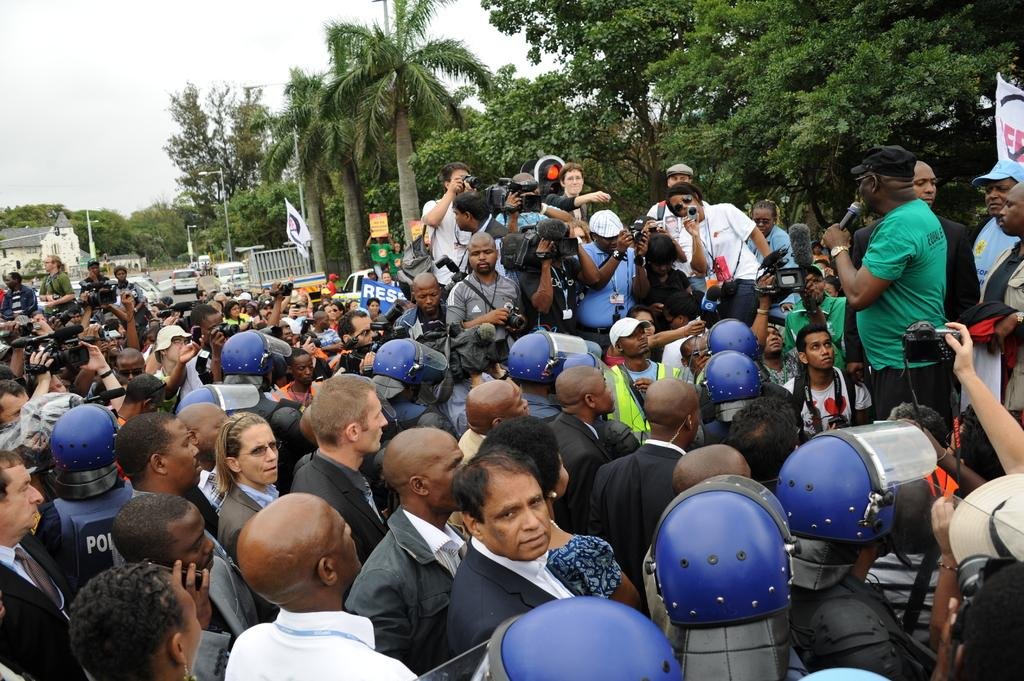helmet: (650, 474, 792, 639), (775, 421, 938, 553), (51, 403, 129, 477), (508, 331, 588, 389), (372, 338, 448, 392), (696, 350, 760, 408), (220, 330, 292, 380), (698, 318, 759, 365)
nohelmet: (67, 561, 203, 681), (234, 491, 363, 612), (450, 446, 554, 565), (110, 491, 217, 587), (381, 425, 477, 515), (113, 410, 205, 497), (309, 373, 389, 458), (216, 411, 283, 488), (850, 144, 919, 216), (0, 447, 45, 555), (643, 376, 701, 454), (553, 364, 617, 425), (972, 158, 1024, 220), (795, 322, 836, 375), (336, 308, 381, 356), (588, 208, 626, 257), (608, 316, 651, 359), (641, 231, 677, 279), (451, 190, 490, 234), (154, 324, 194, 366), (665, 180, 702, 222), (466, 231, 499, 276), (411, 271, 443, 316), (750, 199, 778, 240), (558, 162, 585, 197), (312, 310, 332, 332), (43, 253, 63, 273), (4, 271, 23, 291), (224, 300, 241, 319), (365, 296, 381, 316), (113, 264, 128, 284), (87, 259, 101, 278), (381, 270, 392, 286), (329, 273, 340, 283)
